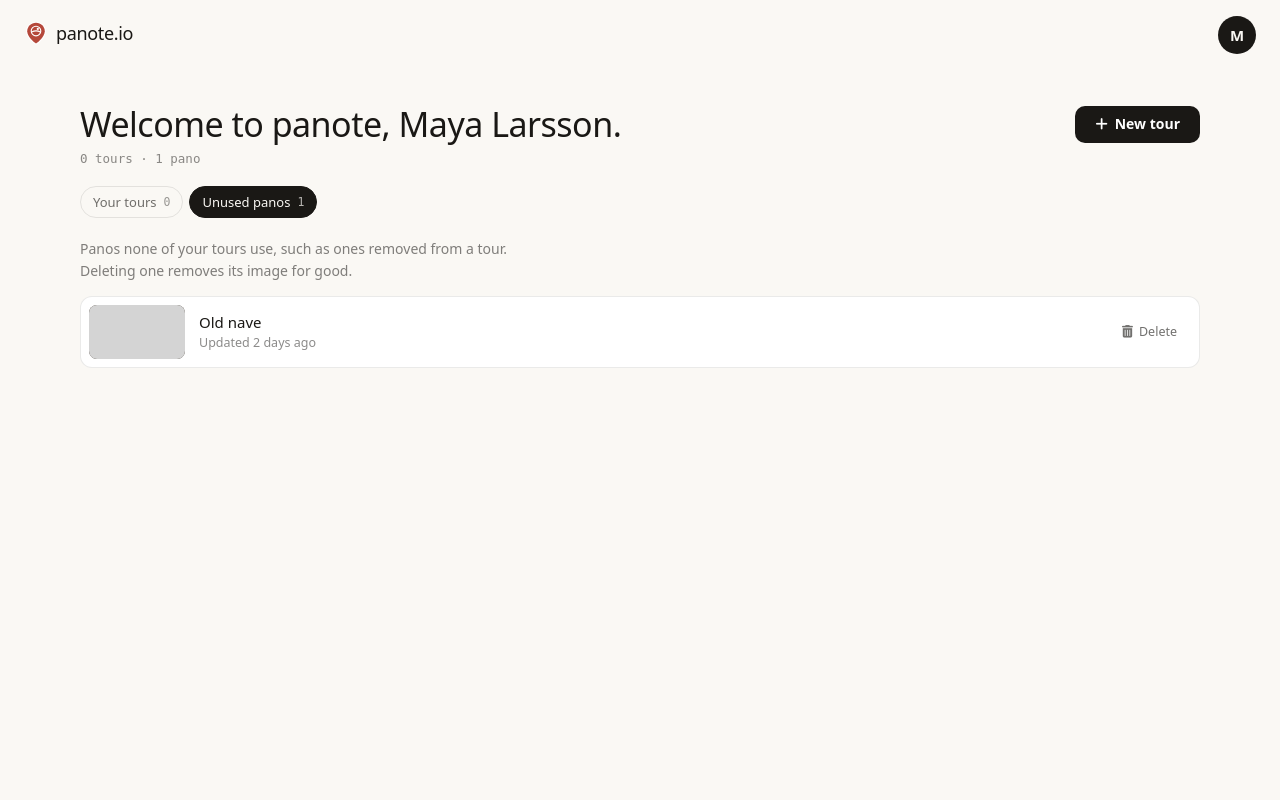
it: Unused panos › cancel deletes nothing
Click the button with aria-label "Delete “Old nave”".
click(1150, 332)  # box x1=1112 y1=316 x2=1187 y2=348
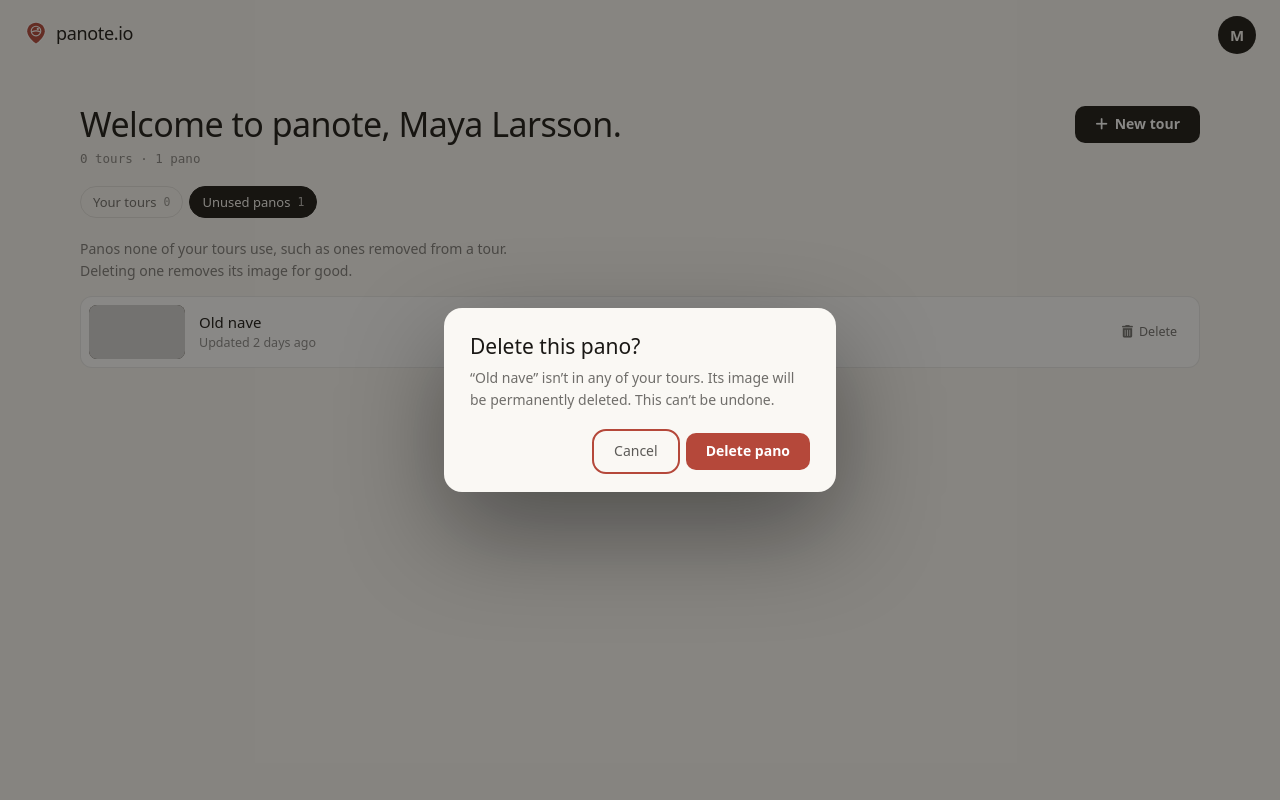
Click the button "Cancel".
click(636, 451)  # box x1=596 y1=433 x2=676 y2=470
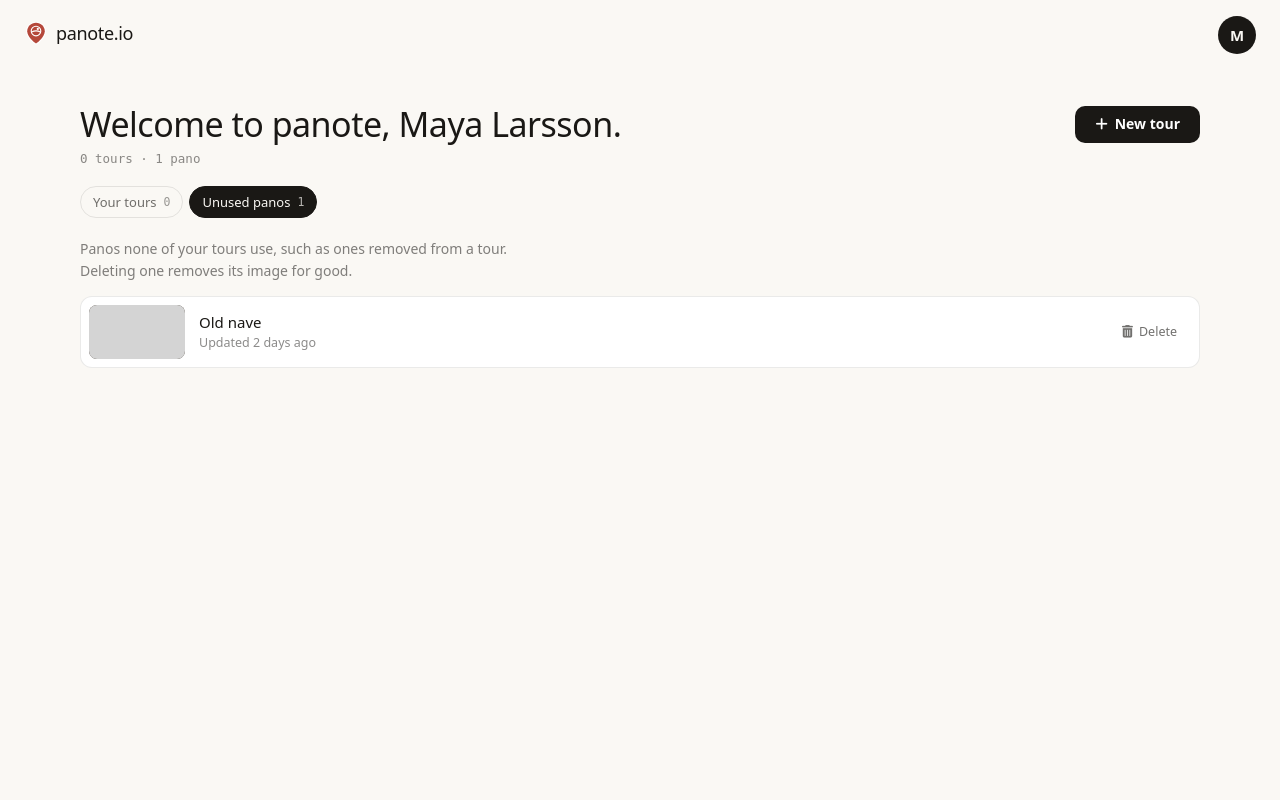
Expected: the text "Old nave" is shown, x1=199 y1=312 x2=262 y2=332
Result: the dialog is gone
